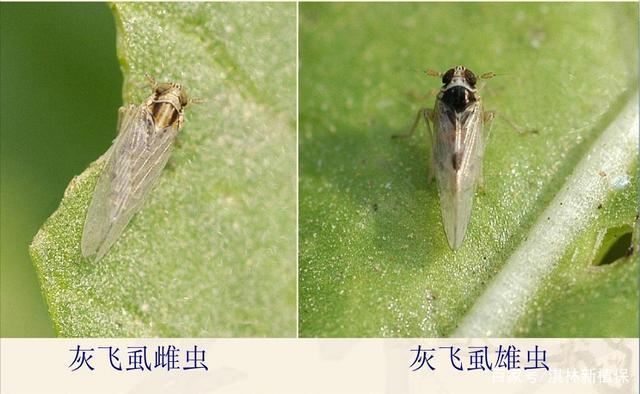Delphacidae: (390, 64, 541, 251), (79, 73, 214, 263)
